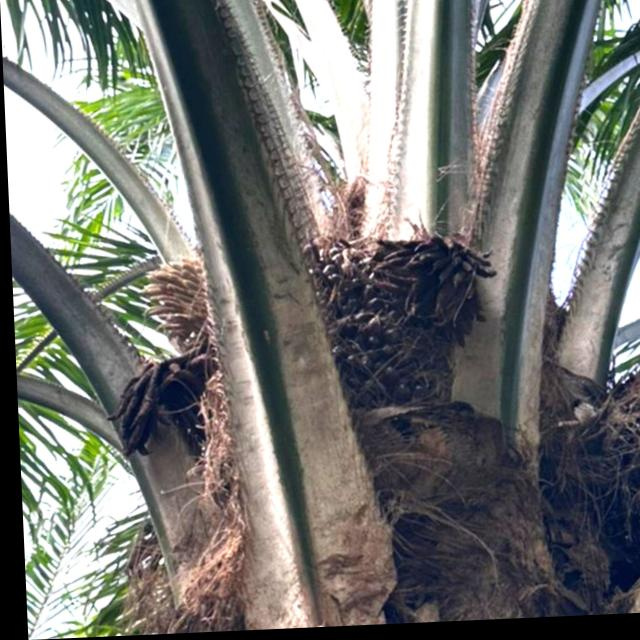ripe: (318, 244, 439, 414)
